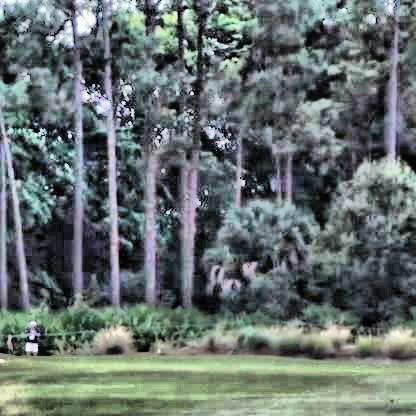golfball: (99, 98, 108, 107)
